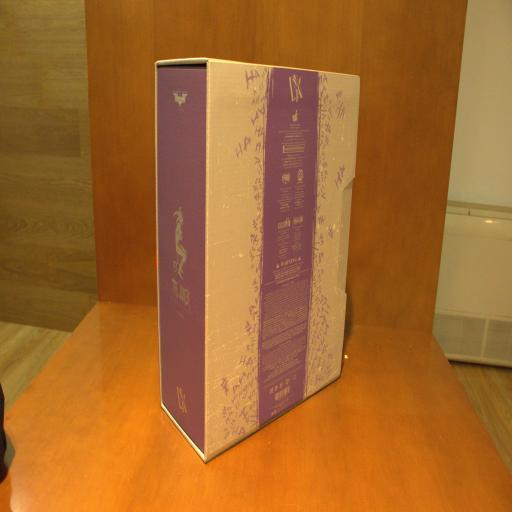Joker: (152, 54, 363, 462)
